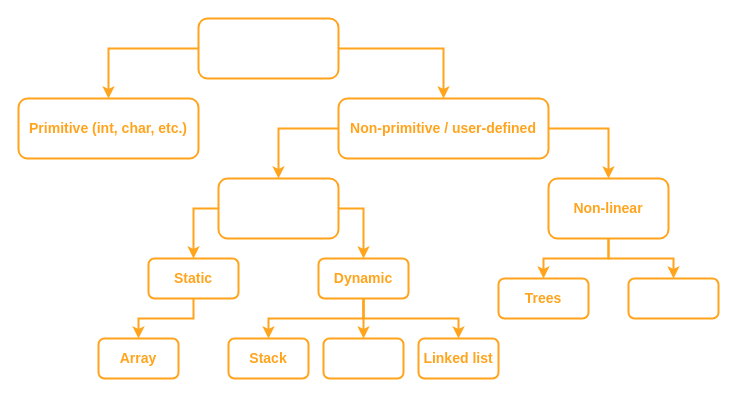
Image size: 736x404. Some labels were removed from this diagram. Each missing label, with the centre of its shape:
"Data Structures" goes at (268,48).
"Graphs" goes at (673,298).
"Linear" goes at (278,208).
"Queue" goes at (363,358).
